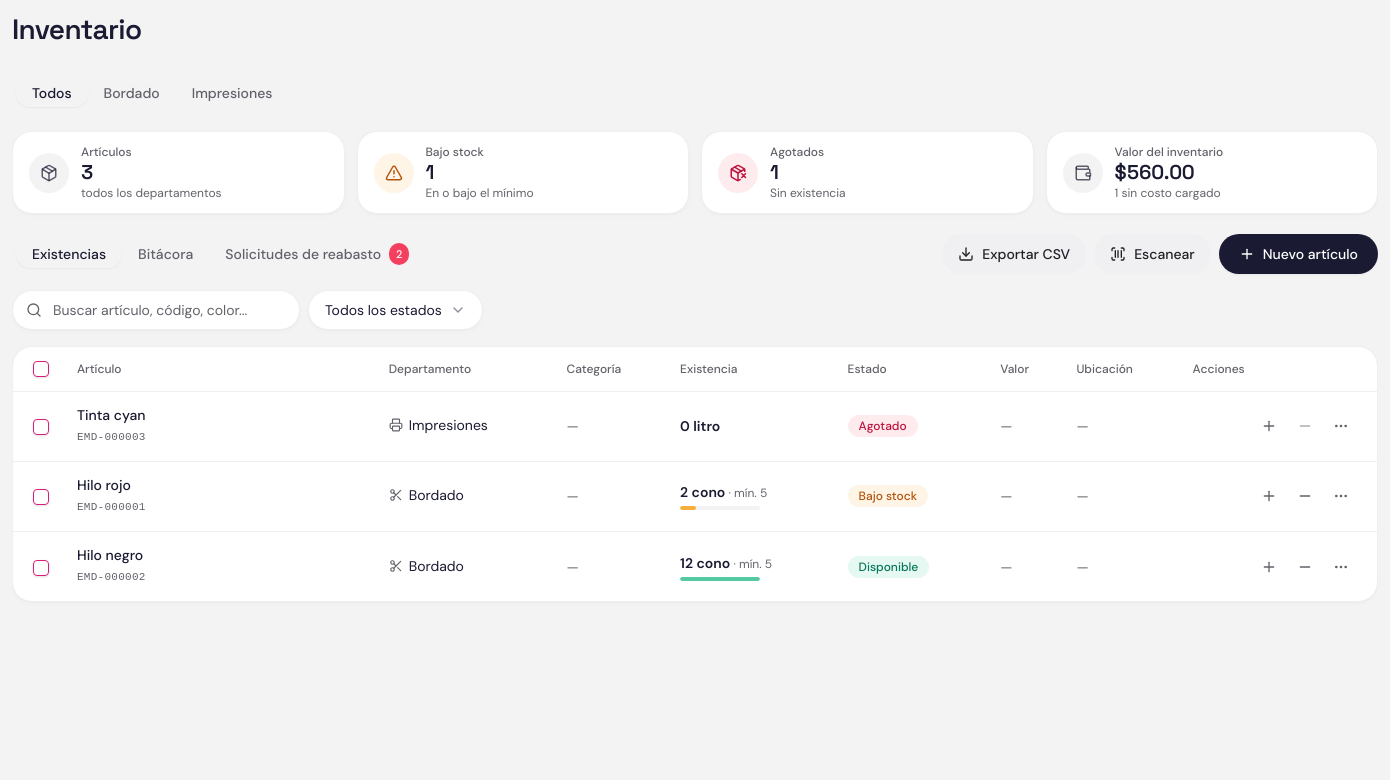
Test case: InventarioPage › el indicador de bajo stock filtra la tabla
Click the button "Bajo stock 1 En o bajo el mínimo".
click(394, 172)  # box [356,131,689,214]
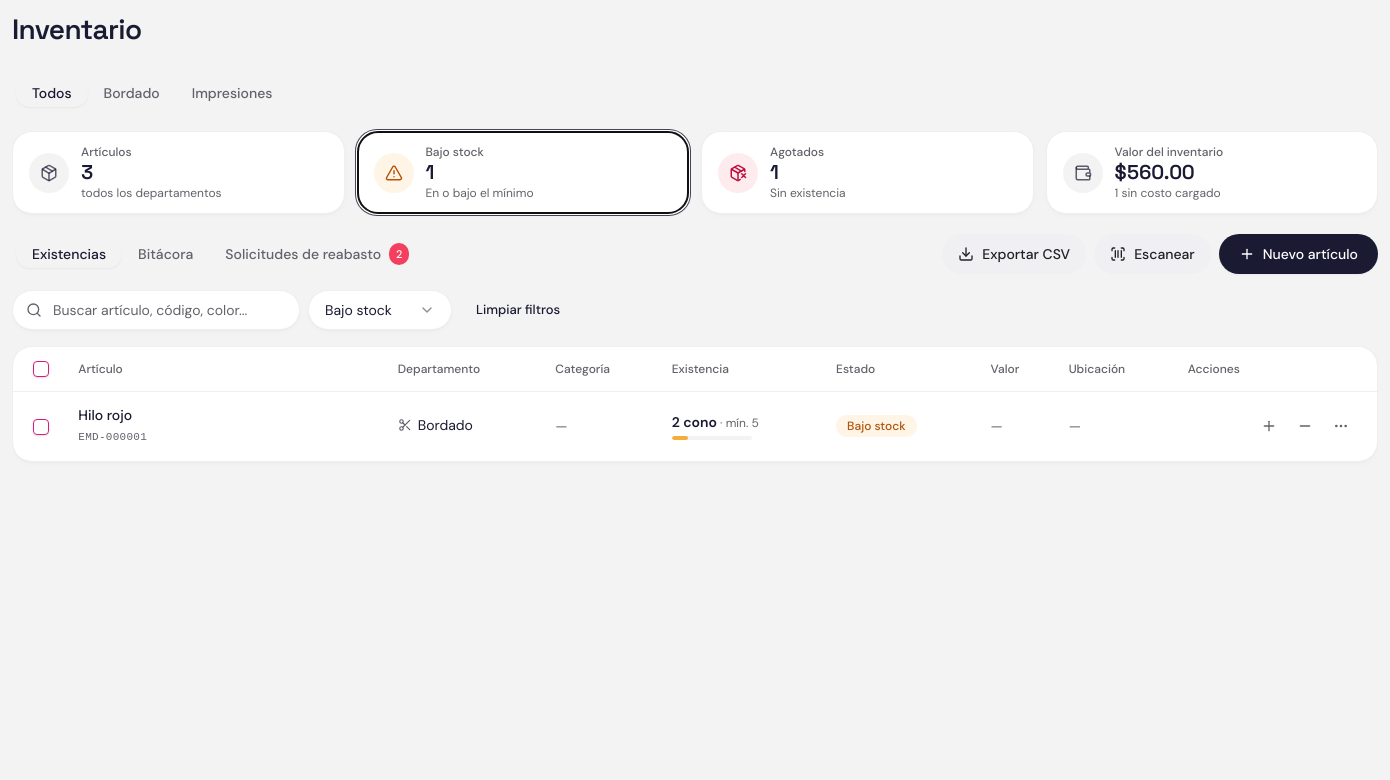
Expected: the text "Hilo rojo" is shown, [78,406,132,424]
Now the text "Hilo negro" is gone
